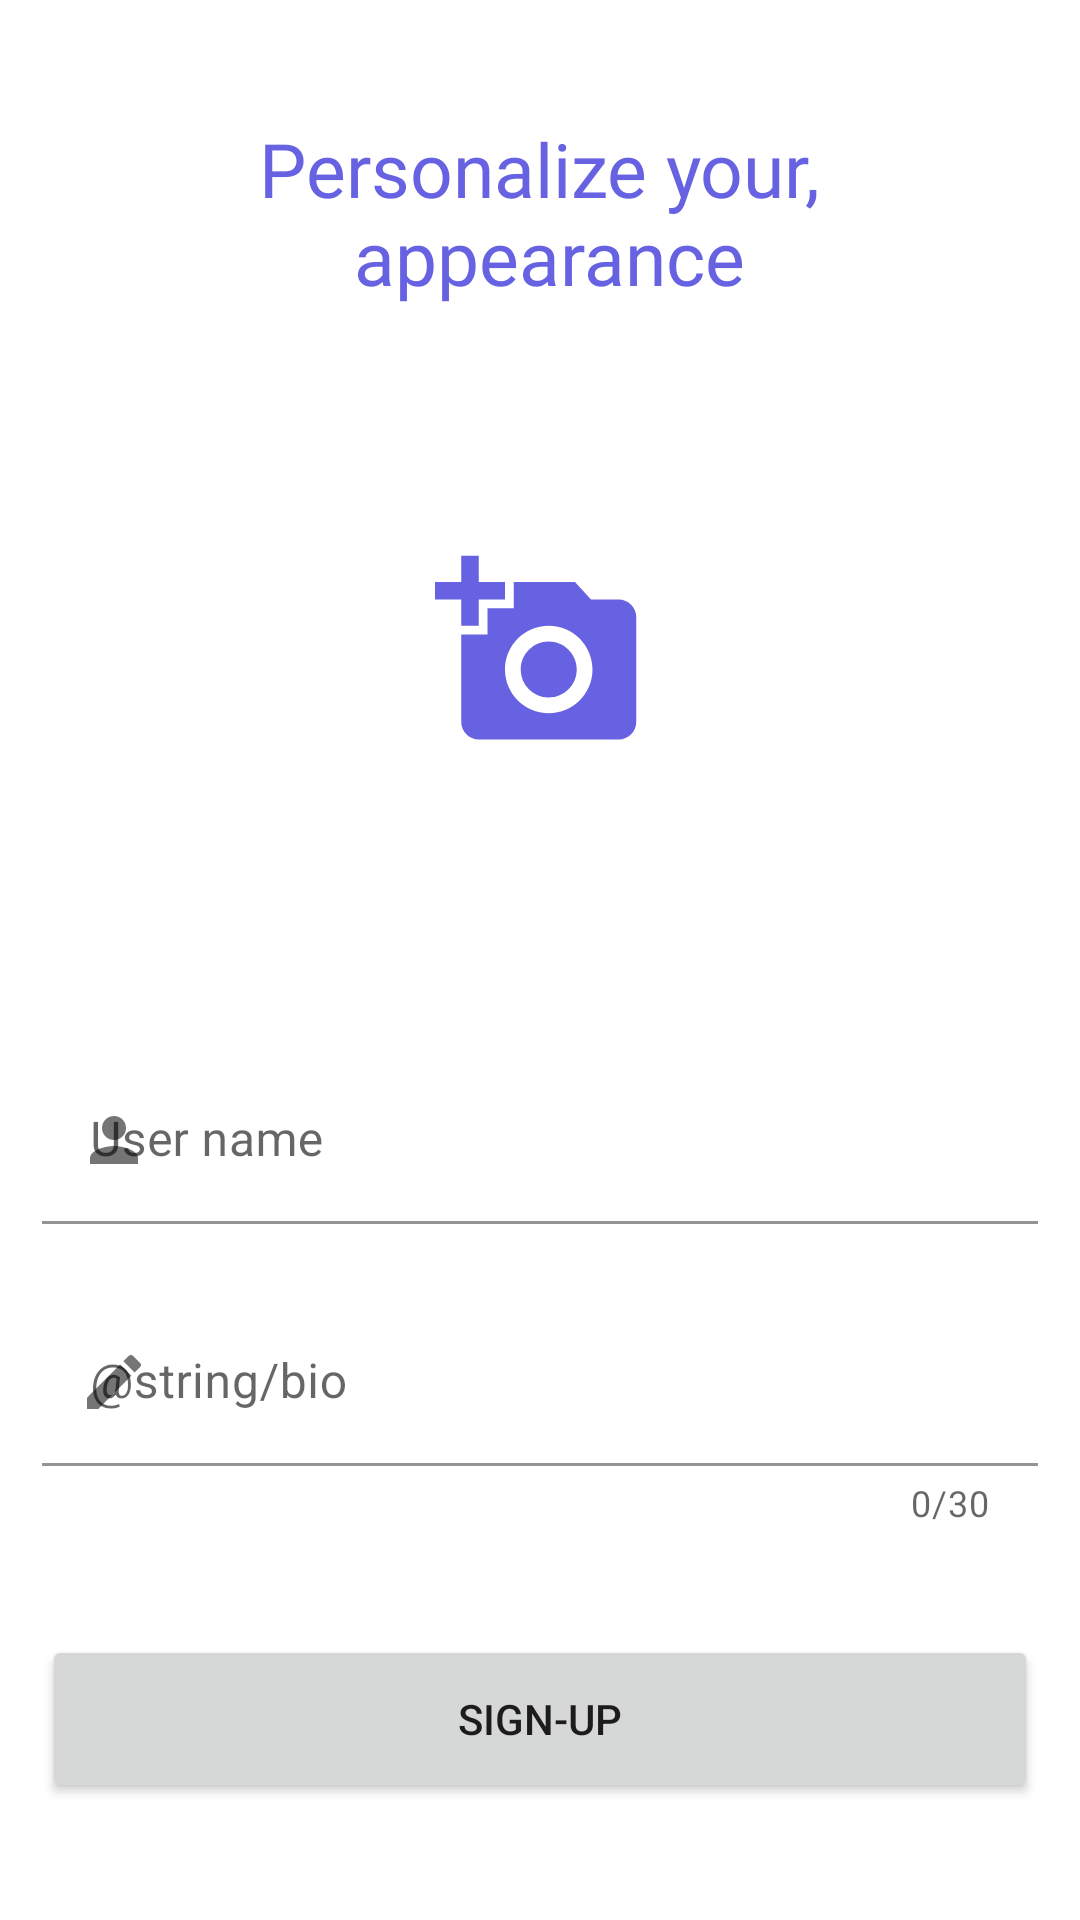

Icon click points for this 1080*1920 phone screenshot, format [x,y]:
Add profile photo: [536,647]
